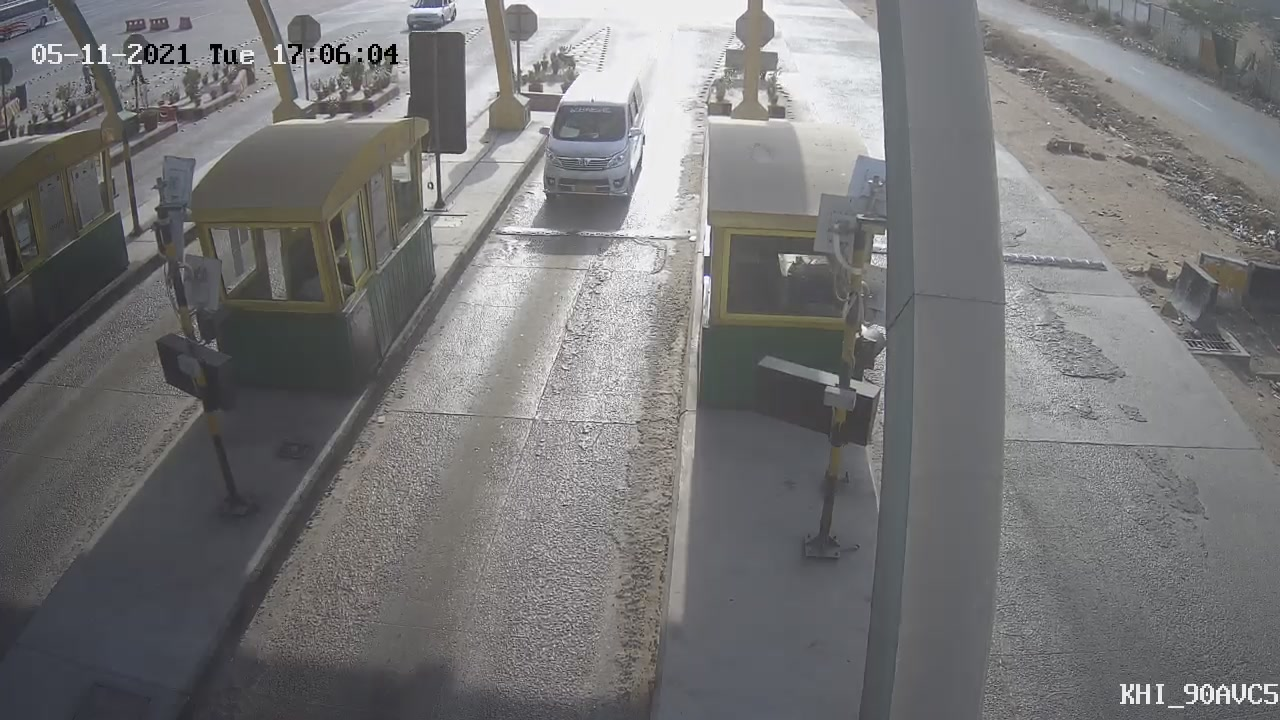F1: (518, 57, 656, 226)
